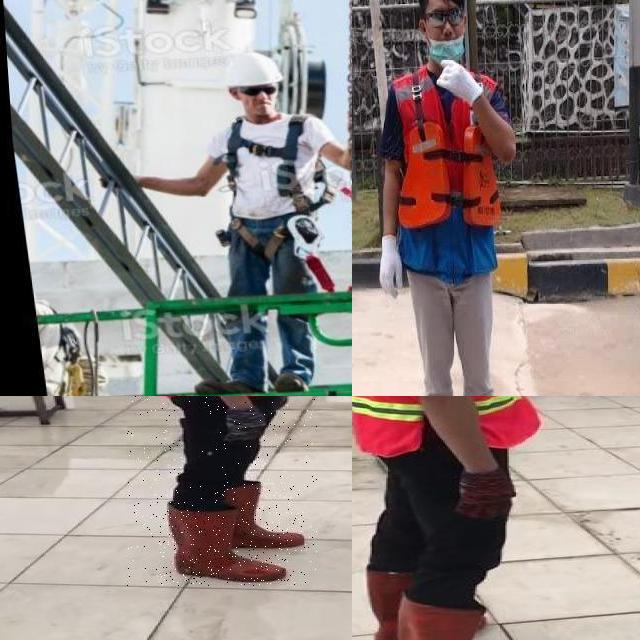Harness: (226, 118, 314, 212)
boots: (160, 500, 288, 586), (356, 555, 472, 640), (391, 592, 523, 640), (220, 482, 304, 550)
hand_glove: (456, 469, 518, 518)
person: (355, 0, 538, 396), (352, 396, 575, 640), (127, 396, 317, 586)
vest: (389, 64, 505, 277), (352, 396, 537, 454)
